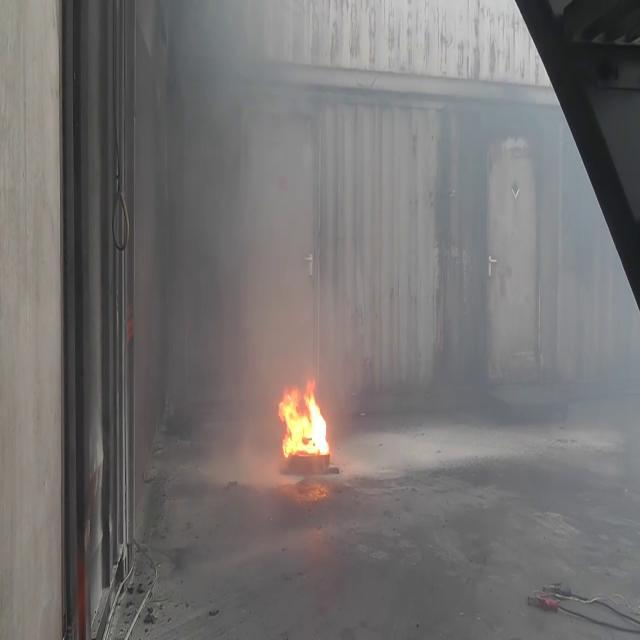Fire: (276, 377, 332, 462)
Smoke: (129, 0, 331, 388)
